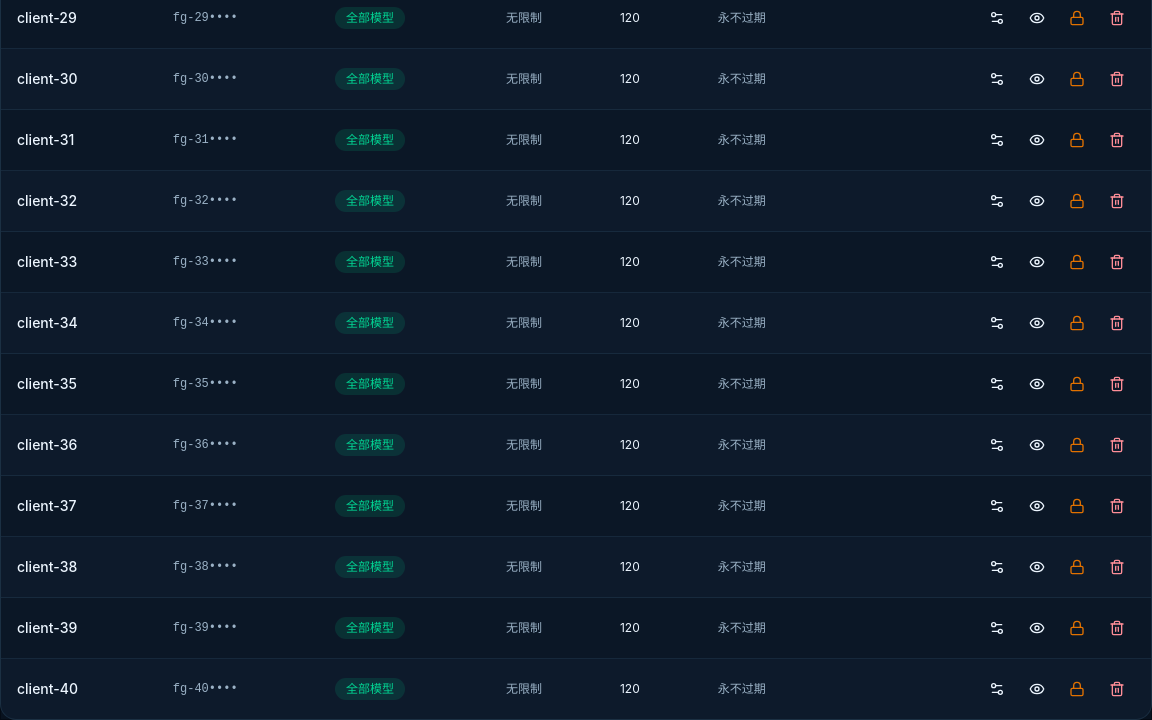
Test: API key reveal dialog › prevents duplicate reveal requests while loading and lets the operator retry a failure
(page scrolled)
Click the button named "查看 client-40". click: (1037, 689)
box: [1019,671,1055,707]
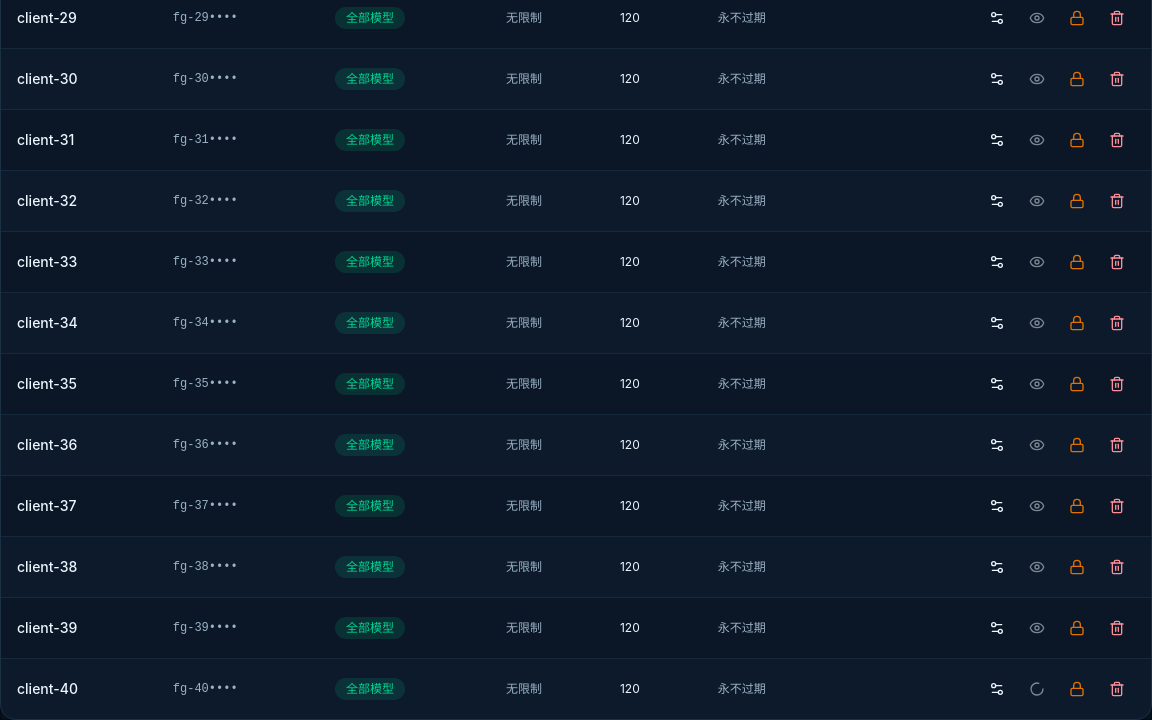
expect the button named "查看 client-40" is disabled: met
Click the button named "查看 client-40". click: (1037, 689)
box: [1019,671,1055,707]
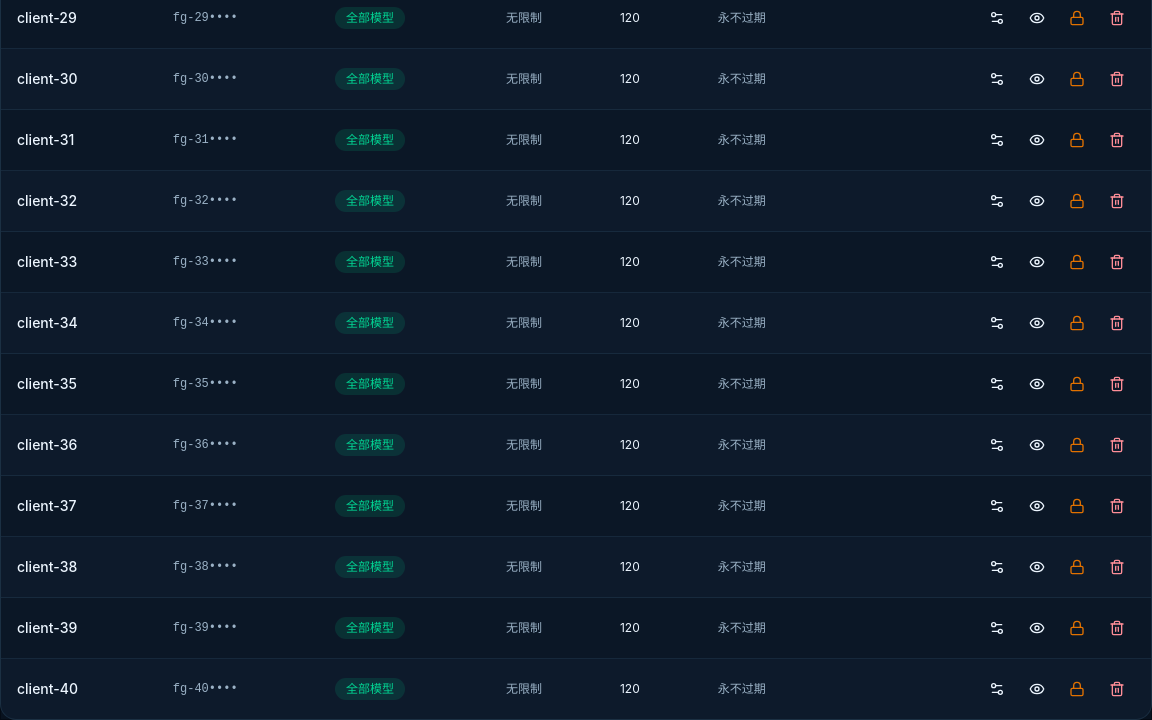
expect the button named "查看 client-40" is enabled: met
Click the button named "查看 client-40". click: (1037, 689)
box: [1019,671,1055,707]
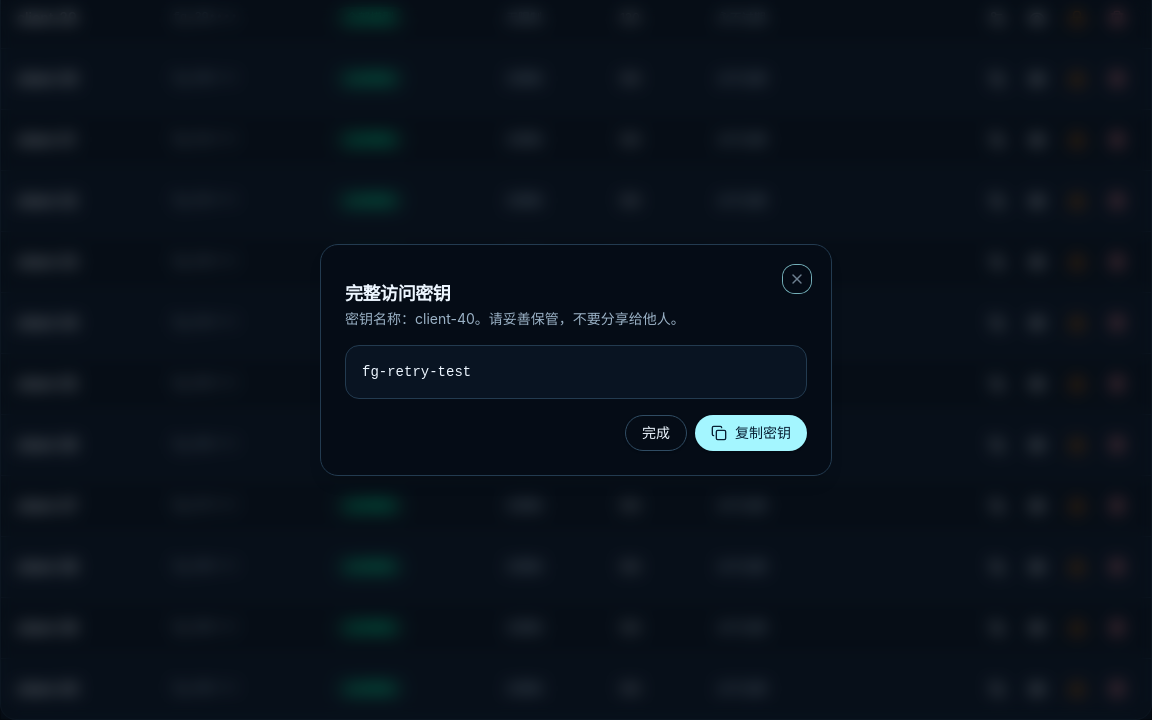
expect the text "fg-retry-test" is shown: met, box [345,345,807,399]
